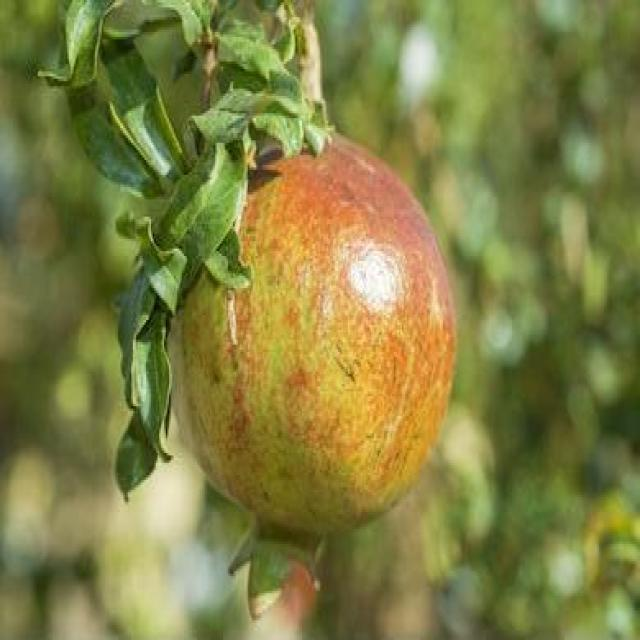Pomegranate: (168, 123, 457, 610)
